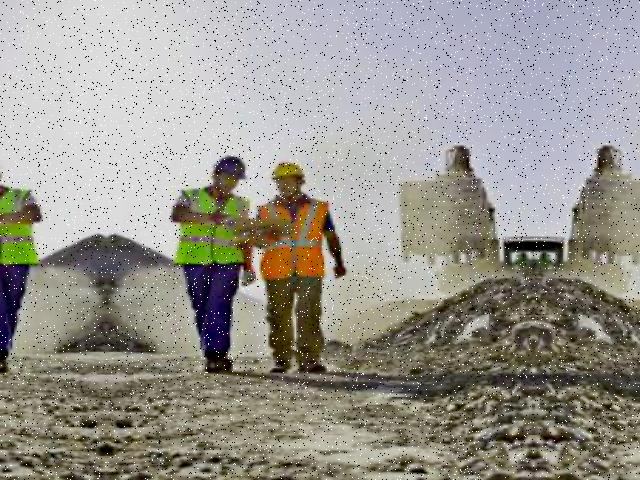Helmet: (208, 152, 248, 180), (267, 160, 308, 184)
